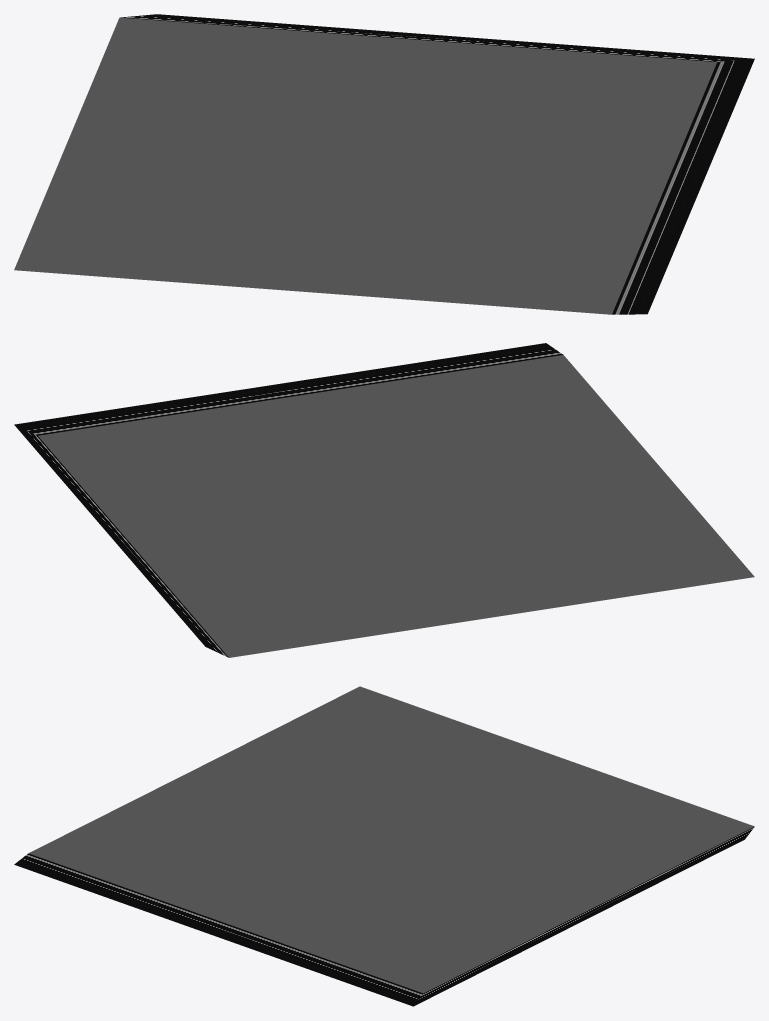
The picture shows the model from 3 angles, top to bottom: view 1: azimuth 30°, elevation 25°; view 2: azimuth 150°, elevation 25°; view 3: azimuth 270°, elevation 25°; orthographic projection. The views are drawn at different scales.
Visible parts, largest first — view 1: Joint_0_Object_0; view 2: Joint_0_Object_0; view 3: Joint_0_Object_0.
Boxes of the visible parts, x1,y1,x2,y2 form: Joint_0_Object_0: (14,14,754,314); Joint_0_Object_0: (14,343,754,657); Joint_0_Object_0: (14,686,754,1006).
Size of the model in its own units: 882 by 0 by 862.
